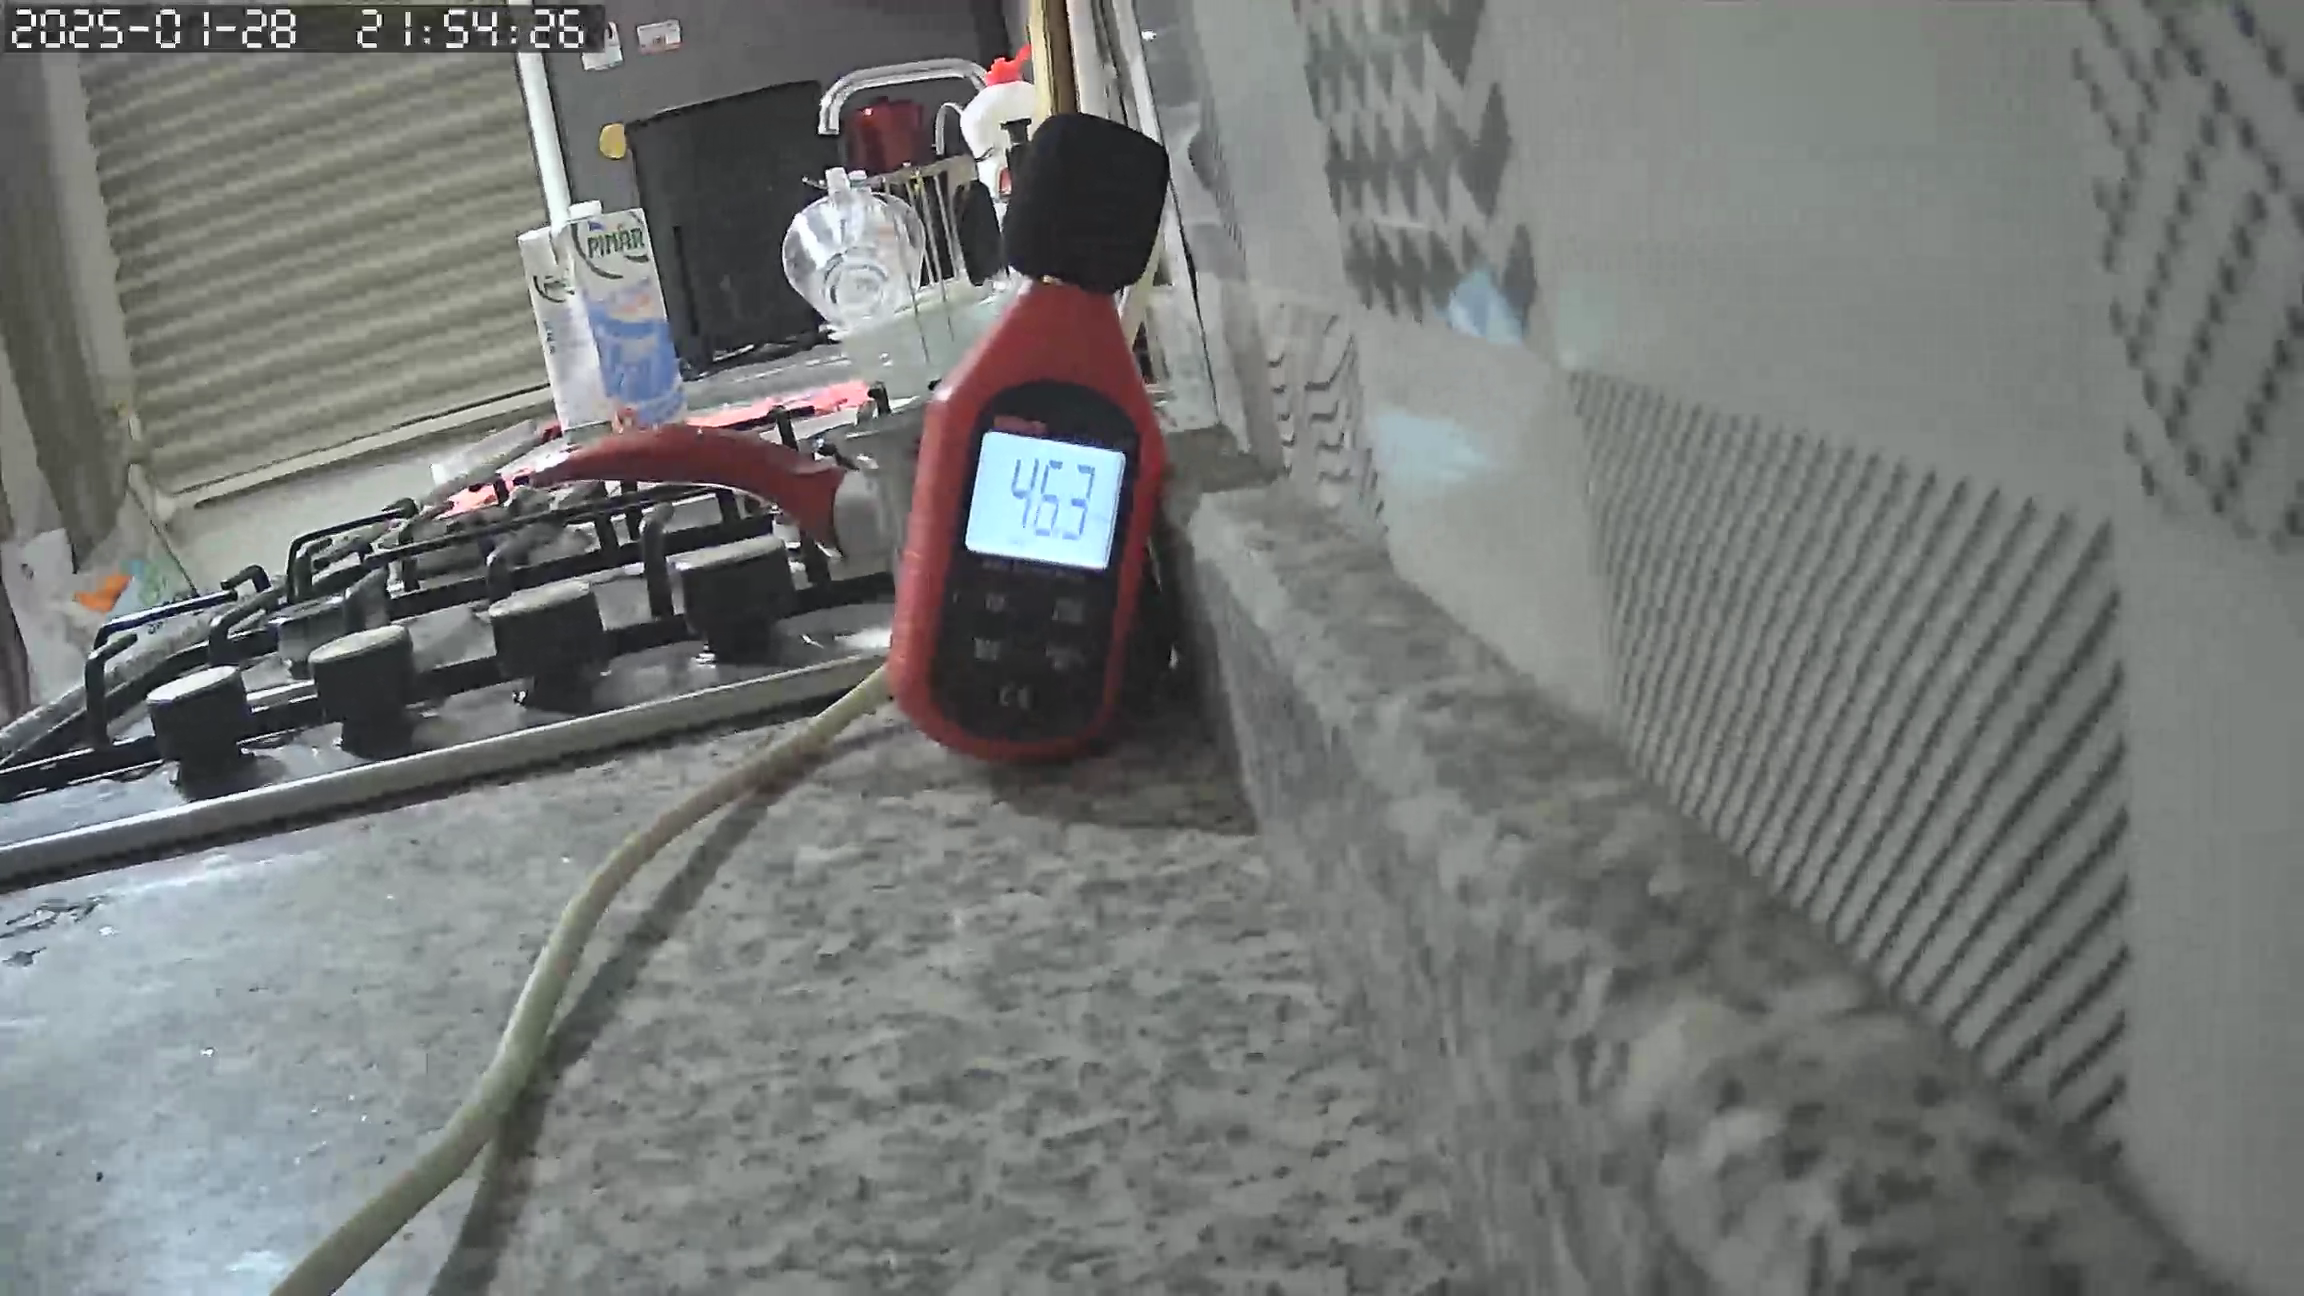screen: (965, 430, 1124, 573)
